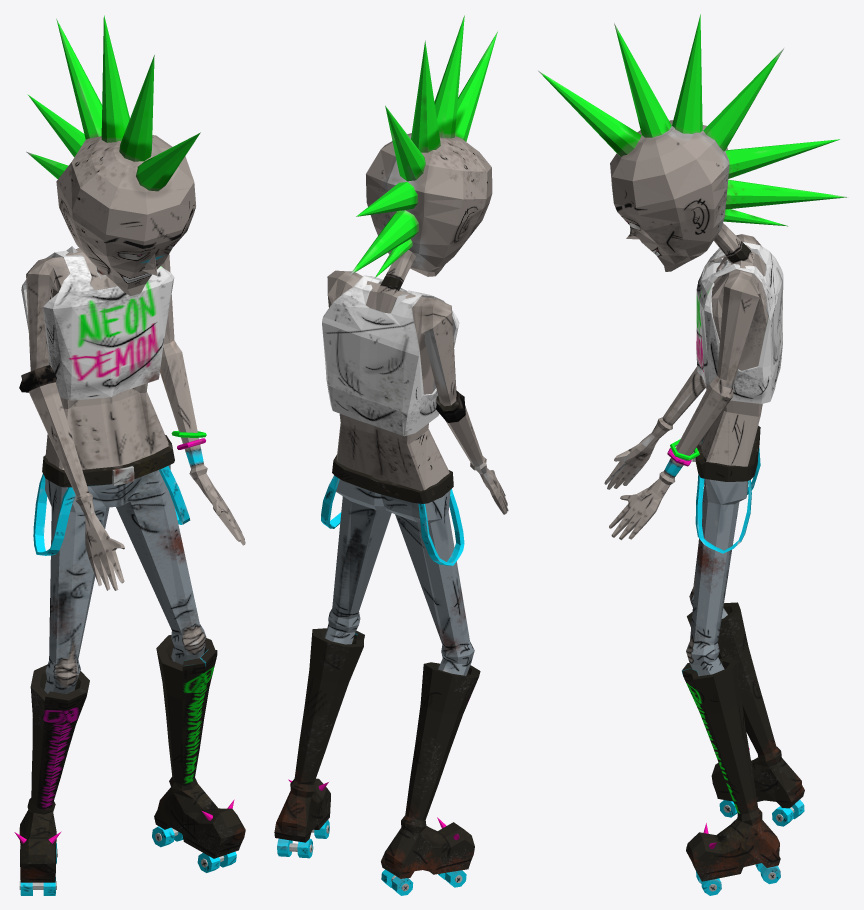
The model's file is punkAnimation_000023.obj.
3 views of the same model, side by side, from view 1: azimuth 30°, elevation 25°; view 2: azimuth 150°, elevation 25°; view 3: azimuth 270°, elevation 25° (orthographic). The views are drawn at different scales.
Visible parts, largest first — view 1: Cube.004_Cube.003; view 2: Cube.004_Cube.003; view 3: Cube.004_Cube.003.
Boxes of the visible parts, bbox=[...] form: Cube.004_Cube.003: bbox=[14, 15, 245, 895]; Cube.004_Cube.003: bbox=[274, 15, 508, 895]; Cube.004_Cube.003: bbox=[538, 14, 848, 895].
Bounding box in the file's own units: 1.83 × 7.43 × 2.56.
